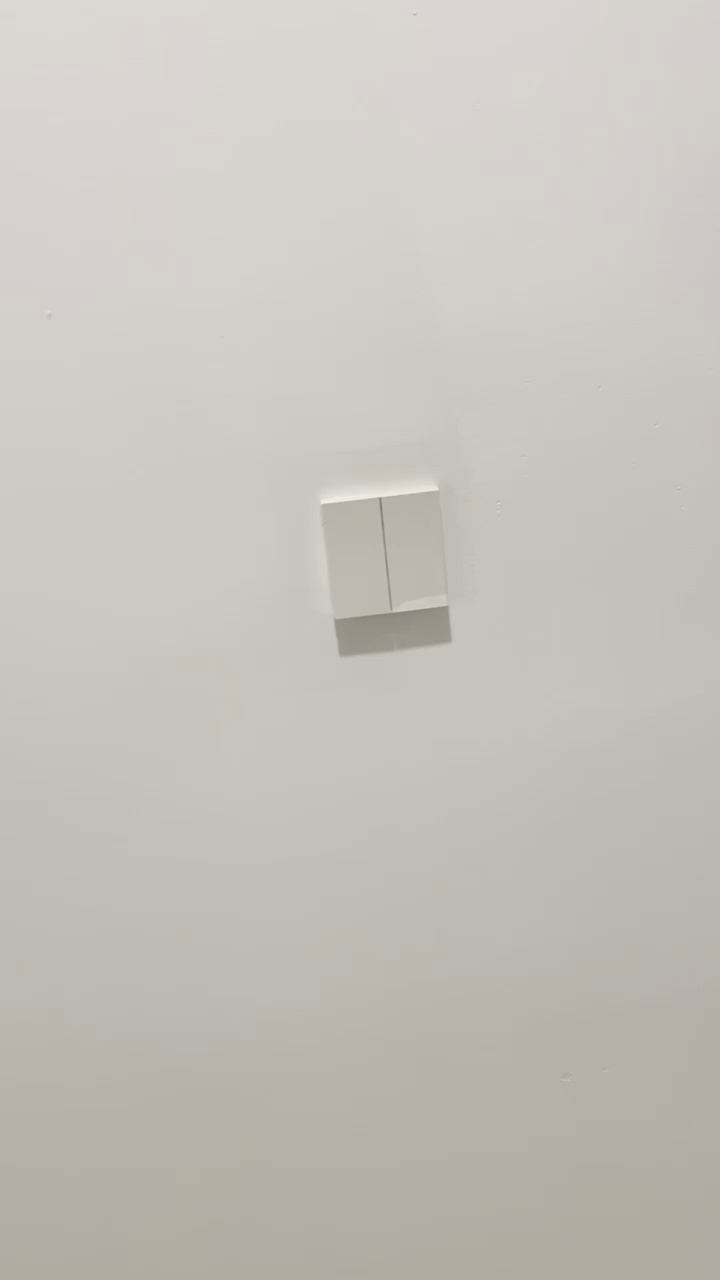button: (321, 483, 450, 624)
